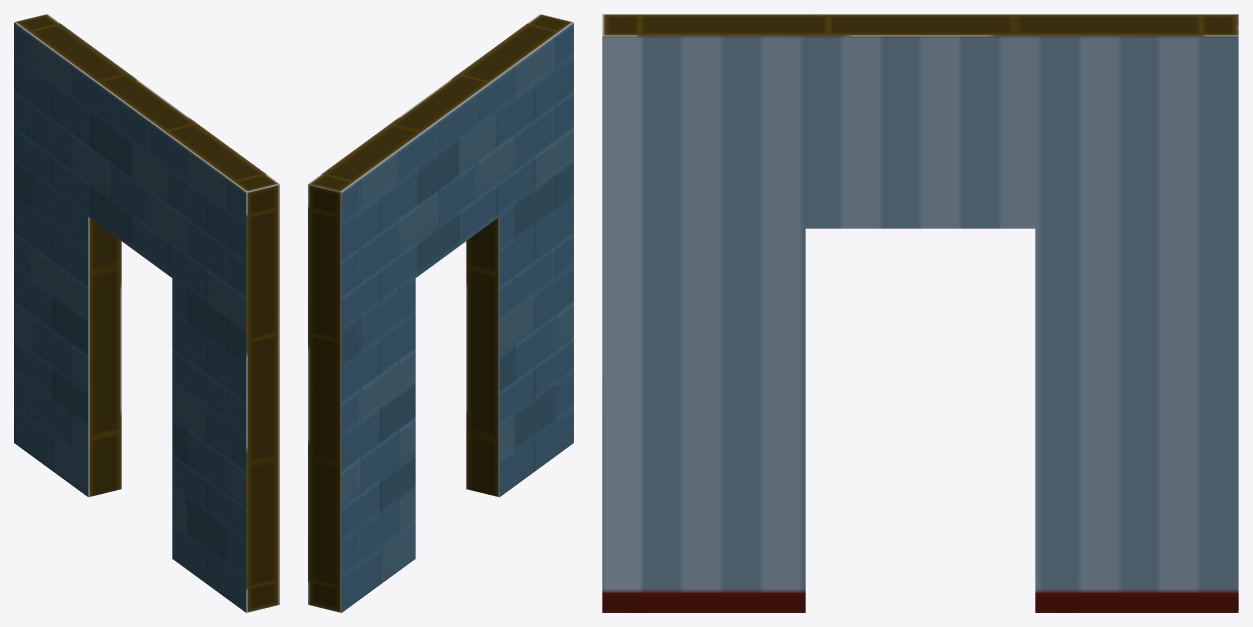
File: Wall_Door_06.fbx
3 renders of one model, left to right at view 1: azimuth 30°, elevation 25°; view 2: azimuth 150°, elevation 25°; view 3: azimuth 270°, elevation 25°, orthographic. The views are drawn at different scales.
Parts seen in each view (by area): view 1: Wall_Door_06; view 2: Wall_Door_06; view 3: Wall_Door_06.
Boxes of the visible parts, bbox=[...] form: Wall_Door_06: bbox=[14, 14, 279, 612]; Wall_Door_06: bbox=[308, 14, 573, 612]; Wall_Door_06: bbox=[602, 14, 1238, 612].
Bounding box in the file's own units: 50 × 600 × 600.
